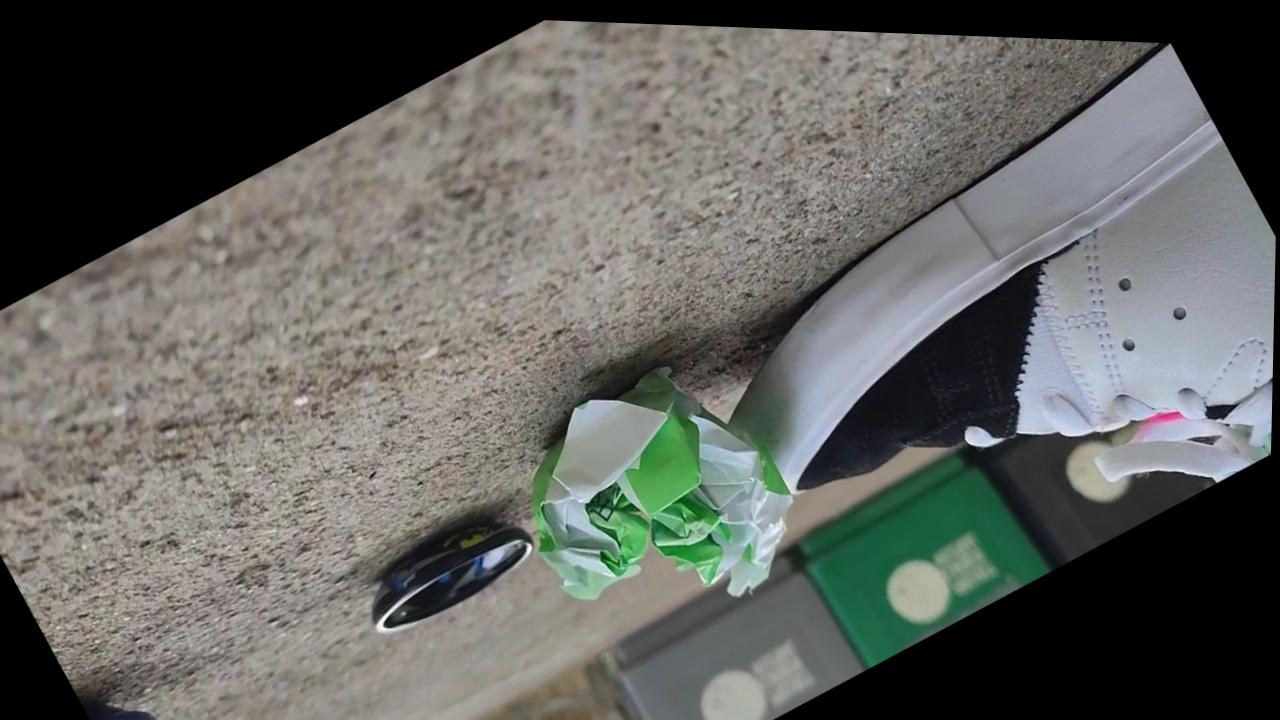paper: (458, 287, 856, 696)
